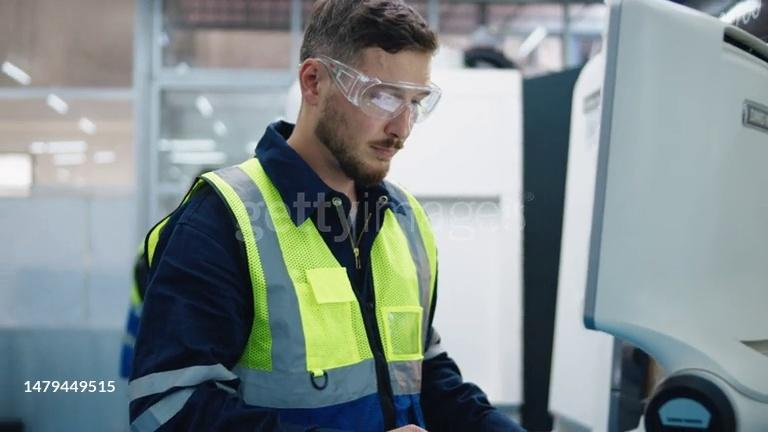person: (127, 1, 529, 432)
